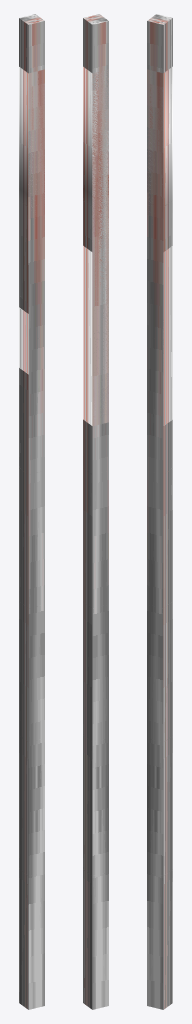
The model's file is barnnnnnnacletounge.glb.
3 renders of one model, left to right at view 1: azimuth 30°, elevation 25°; view 2: azimuth 210°, elevation 25°; view 3: azimuth 330°, elevation 25°, orthographic.
Parts seen in each view (by area): view 1: tongue_ref; view 2: tongue_ref; view 3: tongue_ref.
Boxes of the visible parts, bbox=[...] form: tongue_ref: bbox=[19, 14, 44, 1009]; tongue_ref: bbox=[83, 14, 108, 1009]; tongue_ref: bbox=[147, 14, 172, 1009].
Size of the model in its own units: 1.64 by 93.42 by 1.63.
1 material, 1 textured.
